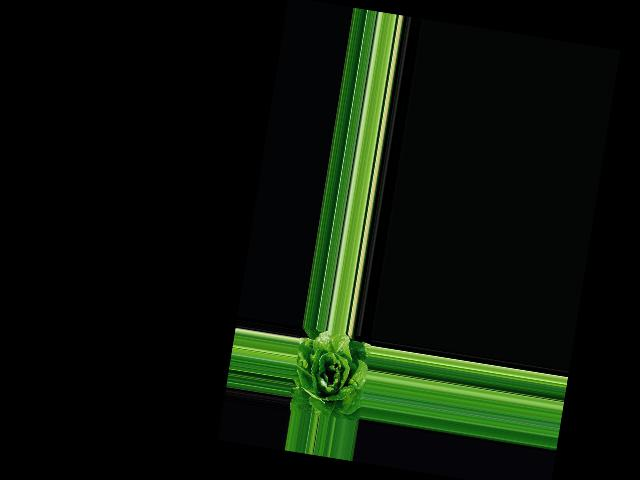lettuce: (287, 330, 369, 420)
